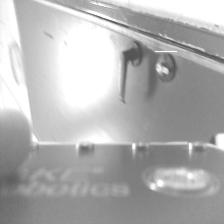Door Handle: (119, 39, 146, 105)
Lock: (155, 51, 177, 84)
